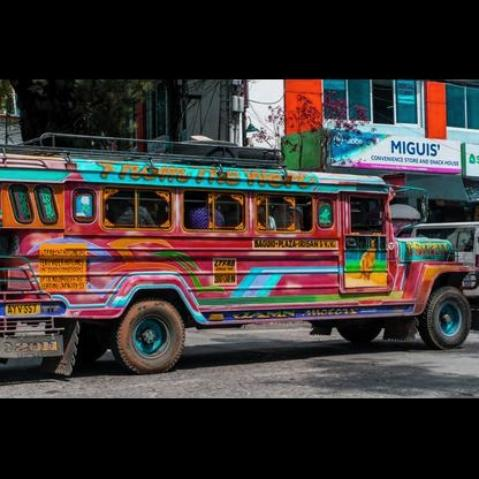jeepney: (4, 133, 476, 367)
